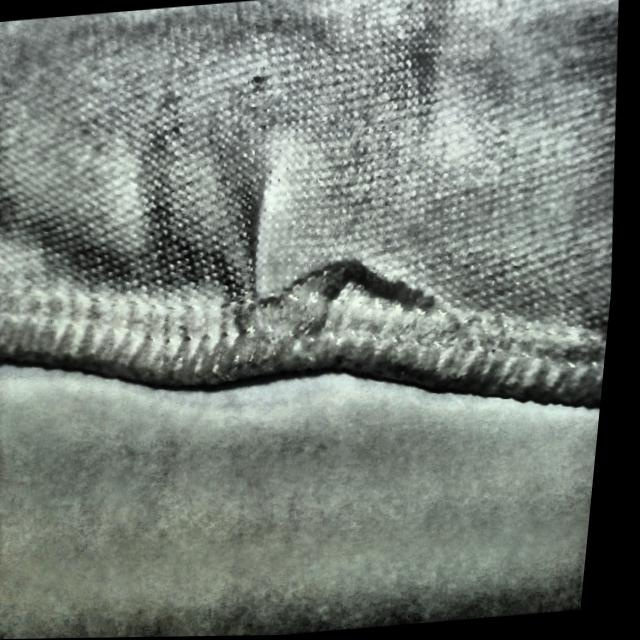seam: (188, 156, 453, 403)
